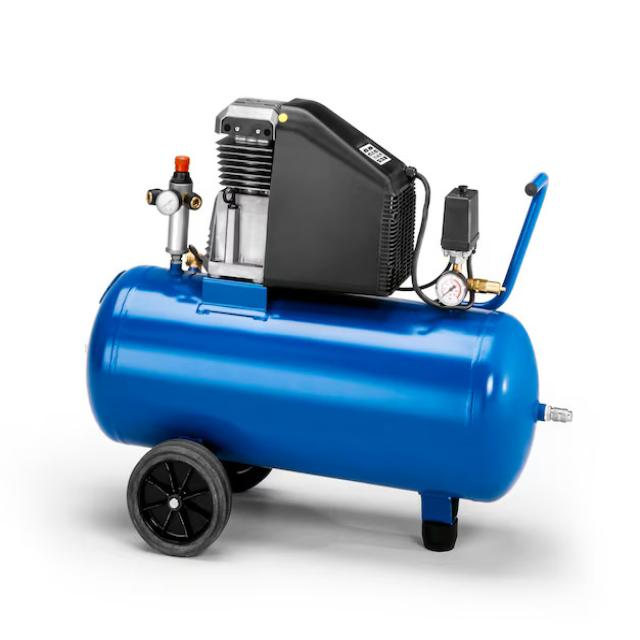compressor: (90, 92, 580, 561)
